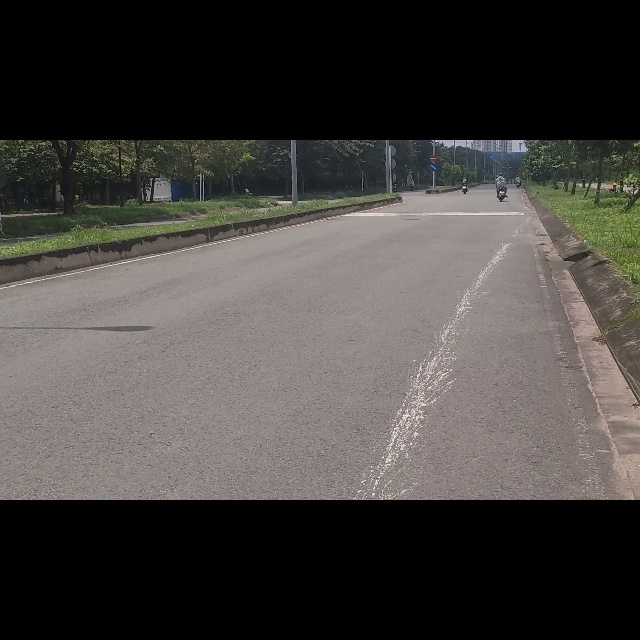bien_cam: (429, 25, 437, 40), (429, 41, 437, 55)
